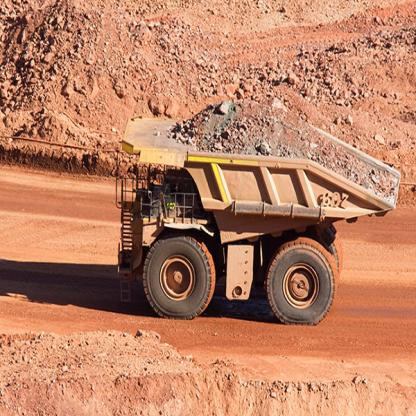dump_truck: (116, 96, 401, 327)
